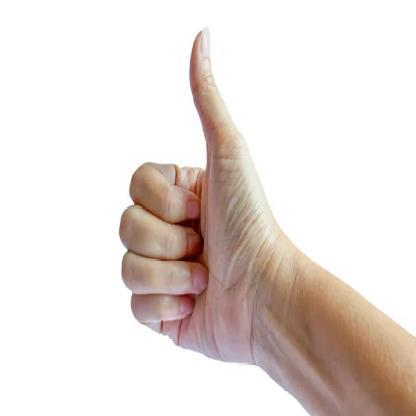thumb_up: (117, 24, 260, 368)
